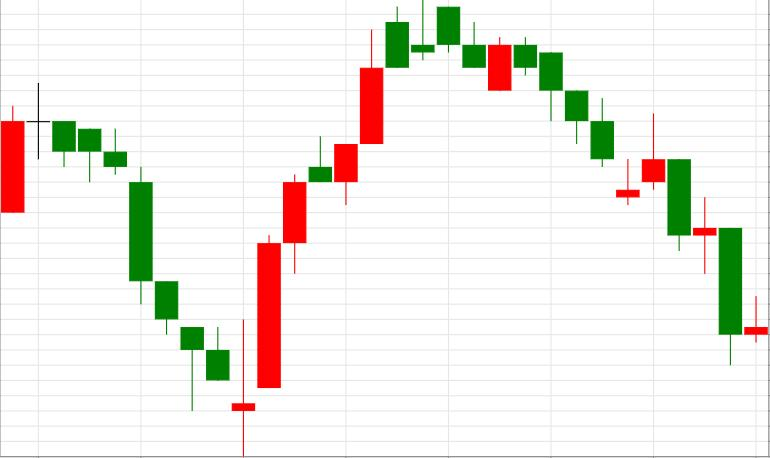morning_star_rise: (53, 121, 281, 457)
